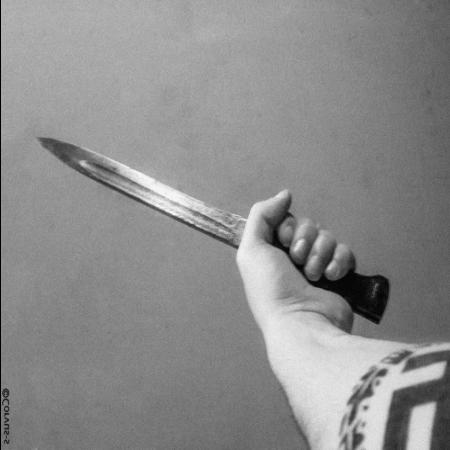long weapon: (28, 128, 314, 282)
